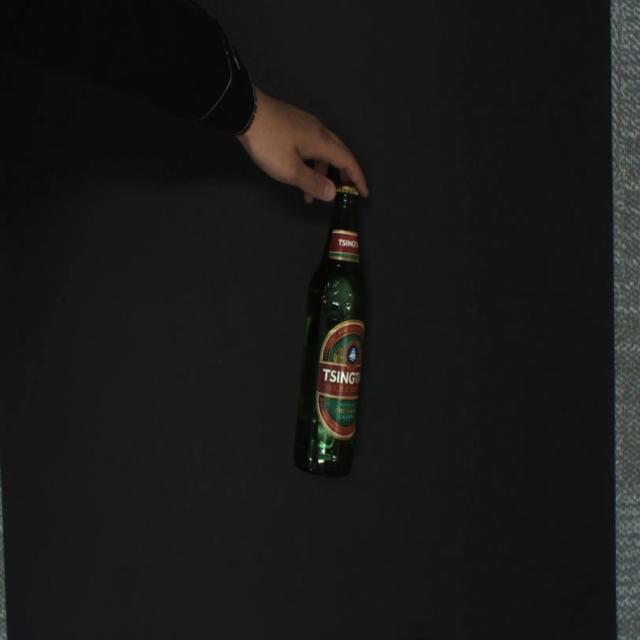beer-bottle: (293, 184, 368, 478)
